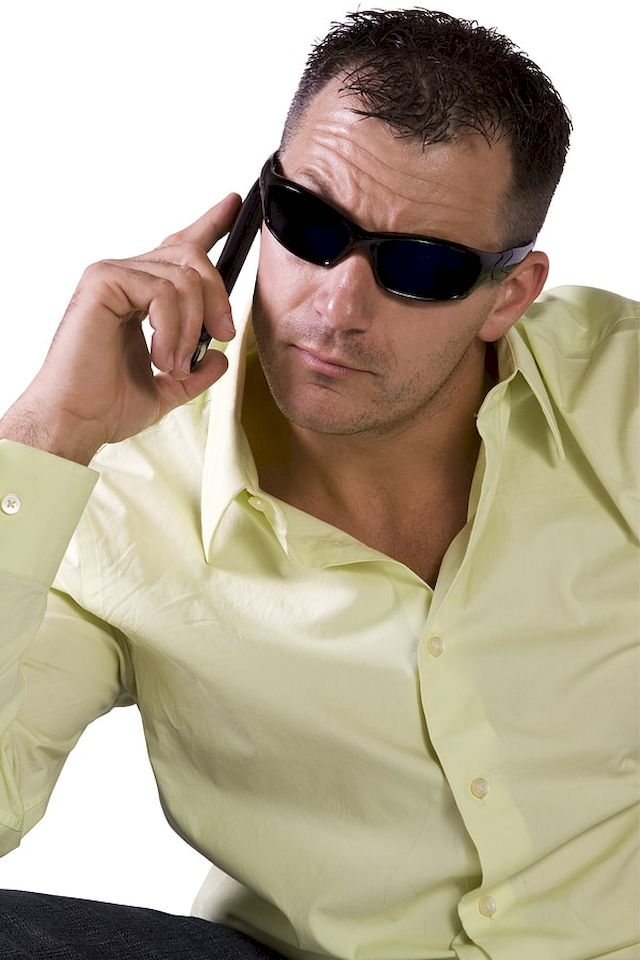phone: (185, 150, 268, 362)
talk: (64, 135, 483, 452)
